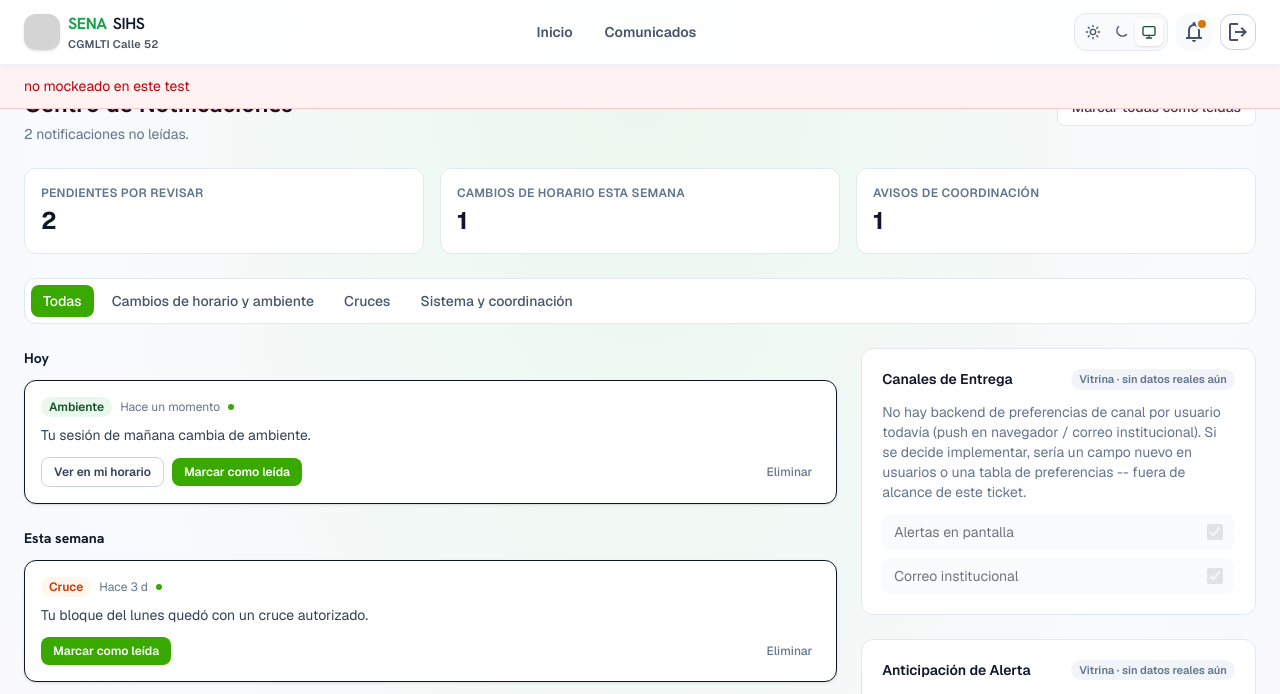
Test: Notificaciones › el filtro por tipo muestra solo las notificaciones de esa categoría
Expected: the text "Tu sesión de mañana cambia de ambiente." is shown, left=41, top=426, right=311, bottom=444
Step 1. Click the button "Cruces" → (367, 301), box left=332, top=285, right=402, bottom=317
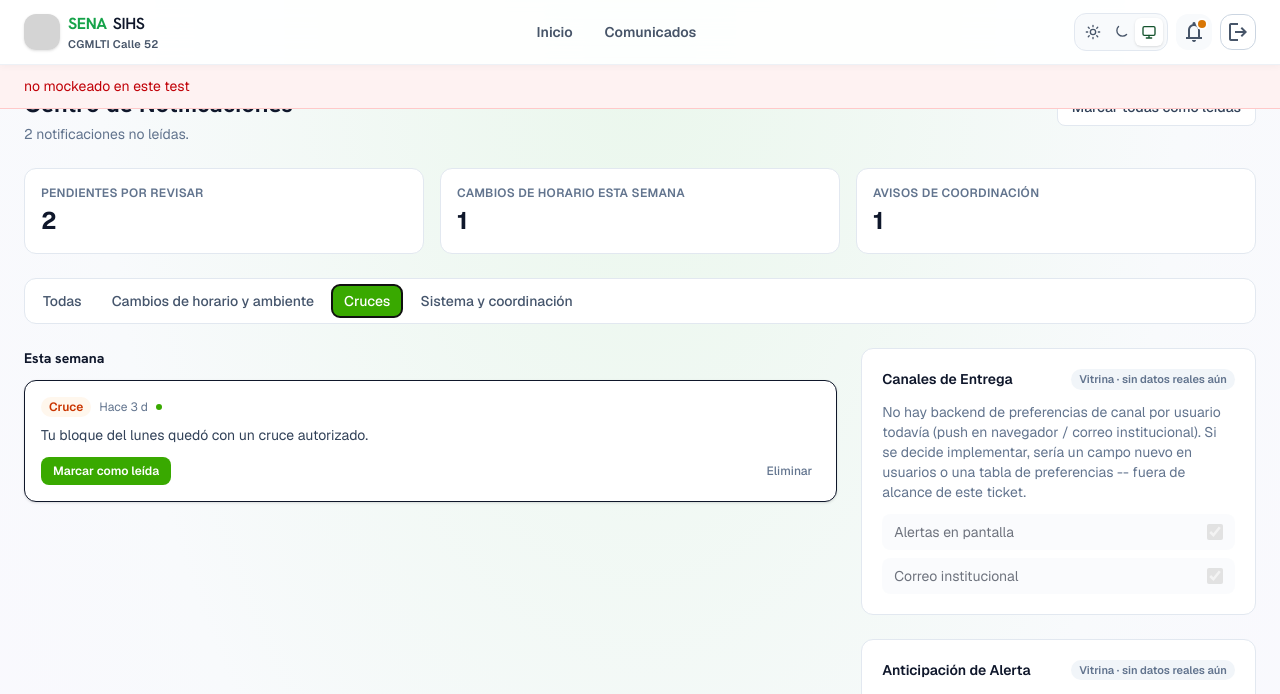
Expected: the text "Tu bloque del lunes quedó con un cruce autorizado." is shown, left=41, top=426, right=368, bottom=444
Expected: the text "Tu sesión de mañana cambia de ambiente." is gone
Step 2. Click the button "Cambios de horario y ambiente" → (213, 301), box left=100, top=285, right=326, bottom=317
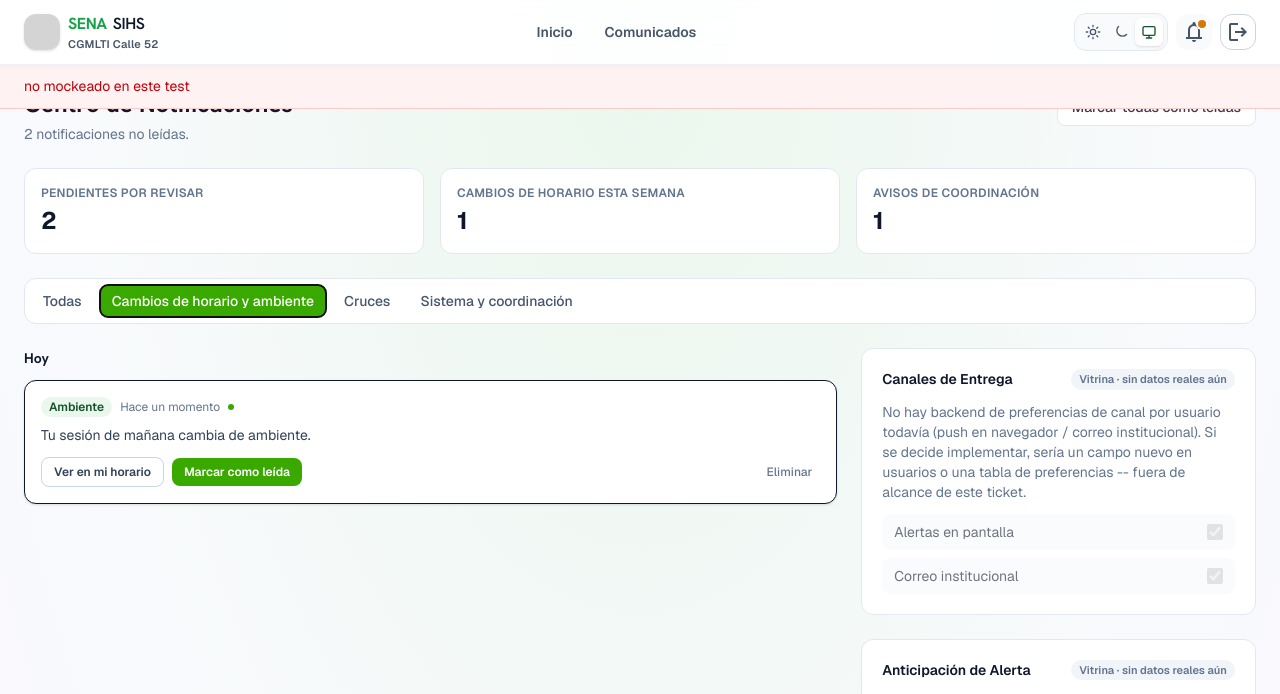
Expected: the text "Tu sesión de mañana cambia de ambiente." is shown, left=41, top=426, right=311, bottom=444
